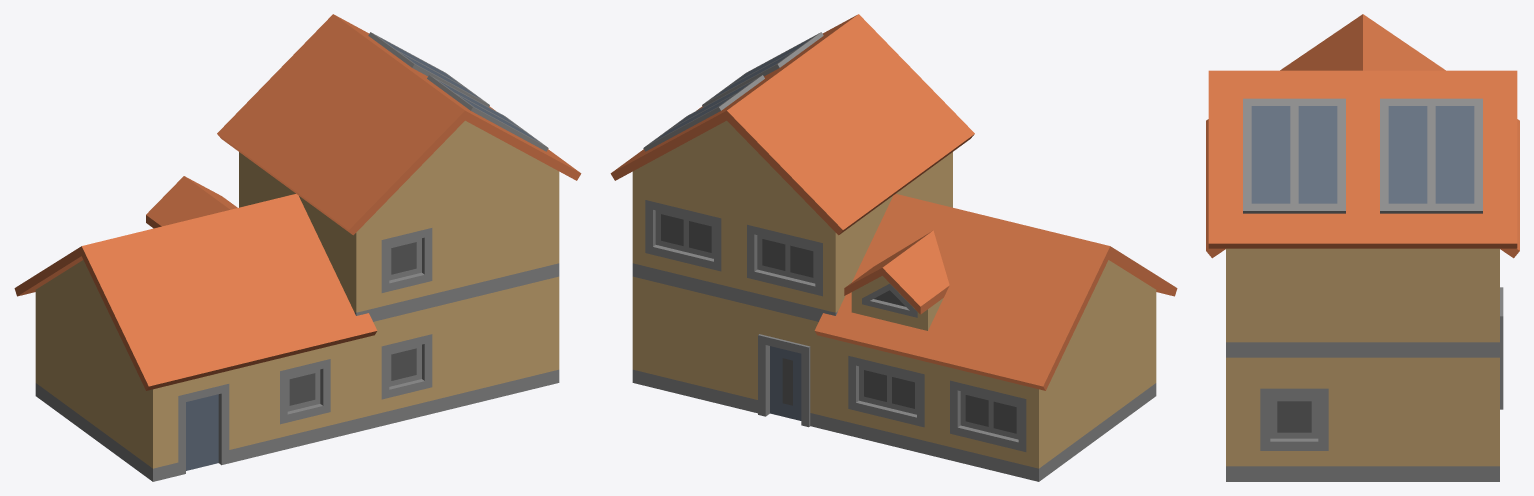
Rendered from SM_Suburb_House_02.fbx.
The picture shows the model from 3 angles, left to right: view 1: azimuth 30°, elevation 25°; view 2: azimuth 150°, elevation 25°; view 3: azimuth 270°, elevation 25°; orthographic projection. The views are drawn at different scales.
Parts seen in each view (by area): view 1: SM_Suburb_House_02; view 2: SM_Suburb_House_02; view 3: SM_Suburb_House_02.
Boxes of the visible parts, x1,y1,x2,y2 form: SM_Suburb_House_02: (14, 14, 581, 481); SM_Suburb_House_02: (610, 14, 1177, 481); SM_Suburb_House_02: (1206, 14, 1519, 481).
Size of the model in its own units: 1230 by 819 by 660.
